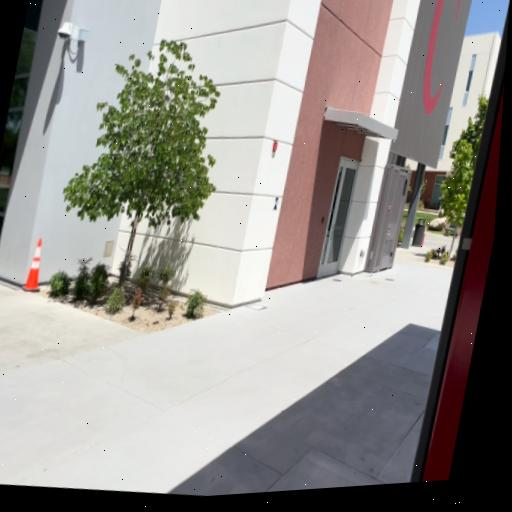target9: (273, 196, 280, 210)
